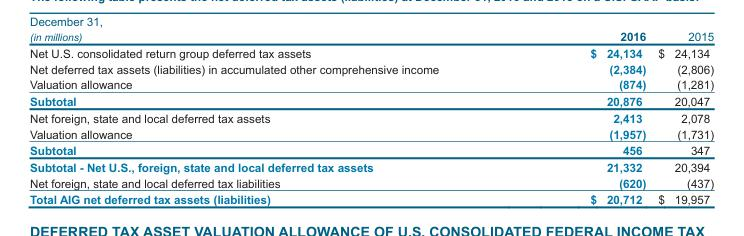table: (29, 29, 713, 205)
table column: (29, 29, 513, 205), (513, 29, 651, 205), (651, 29, 713, 205)
table column header: (29, 29, 713, 44)
table row: (29, 44, 713, 61), (29, 92, 713, 109), (29, 141, 713, 158), (29, 76, 713, 92), (29, 109, 713, 125), (29, 125, 713, 141), (29, 158, 713, 174), (29, 174, 713, 190), (29, 29, 713, 44), (29, 61, 713, 76), (29, 190, 713, 205)
